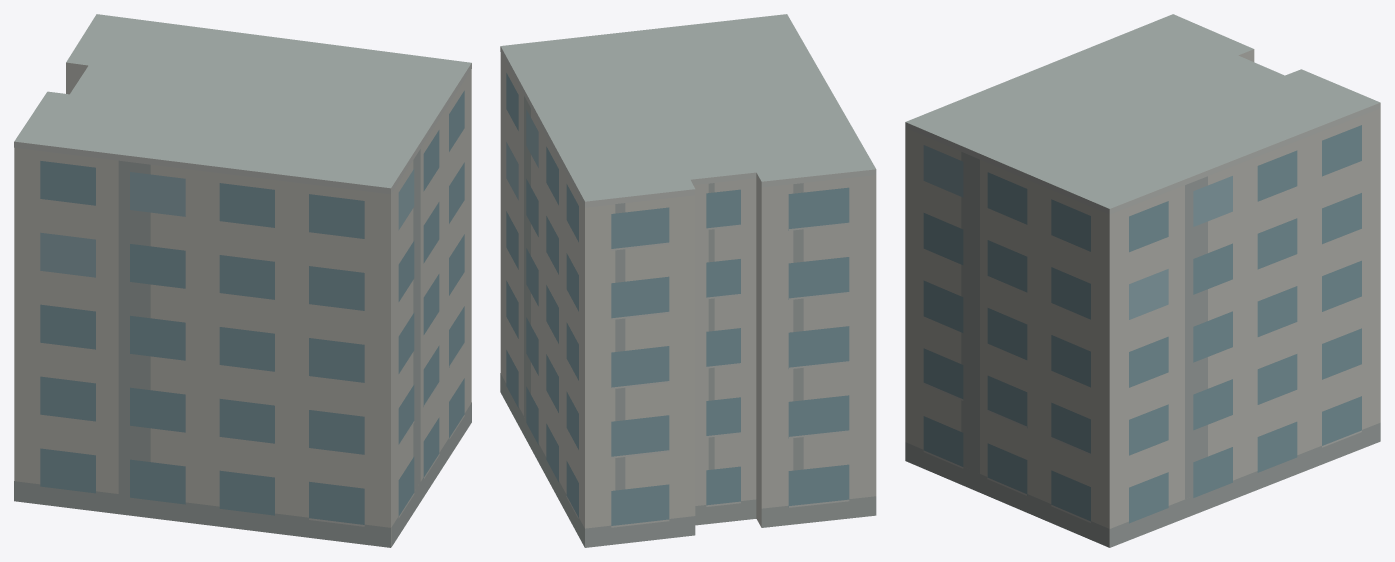
The model's file is survey-upis-32884483.glb.
3 renders of one model, left to right at view 1: azimuth 30°, elevation 25°; view 2: azimuth 150°, elevation 25°; view 3: azimuth 270°, elevation 25°, orthographic. The views are drawn at different scales.
Visible parts, largest first — view 1: survey-upis-32884483.tmp; view 2: survey-upis-32884483.tmp; view 3: survey-upis-32884483.tmp.
Boxes of the visible parts, x1,y1,x2,y2 form: survey-upis-32884483.tmp: (14, 14, 471, 547); survey-upis-32884483.tmp: (500, 14, 876, 547); survey-upis-32884483.tmp: (905, 14, 1380, 547).
Size of the model in its own units: 17.65 by 14.3 by 18.19.
